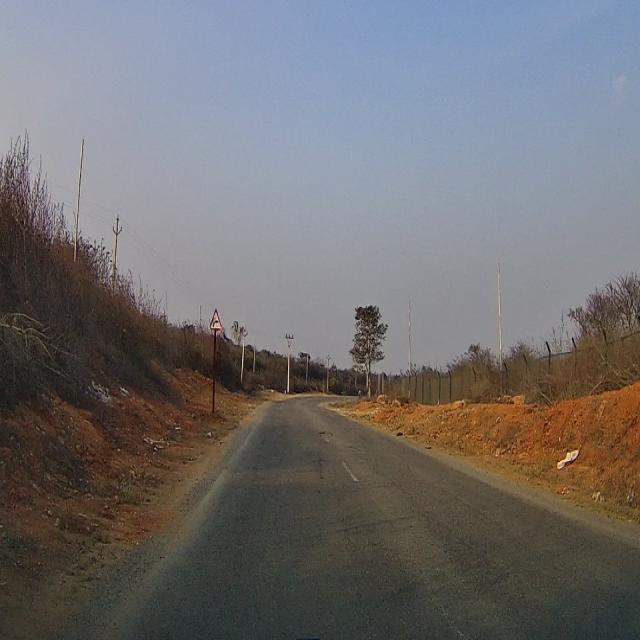right-hand-curve: (210, 306, 222, 328)
